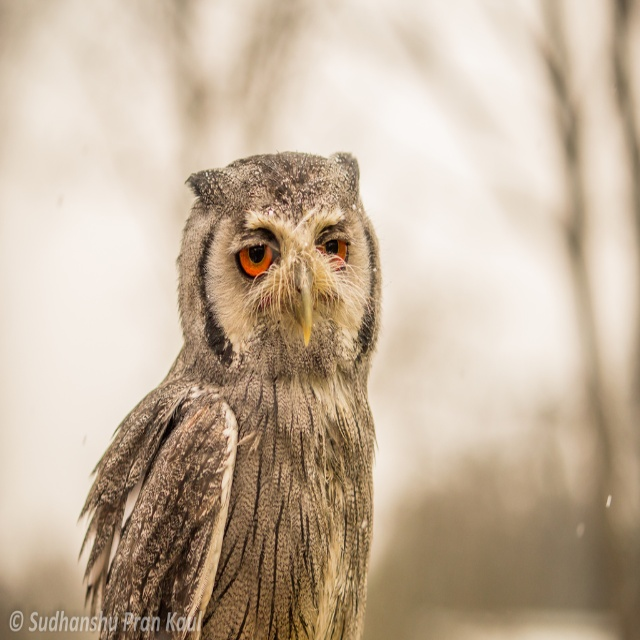Owl: (76, 152, 386, 639)
